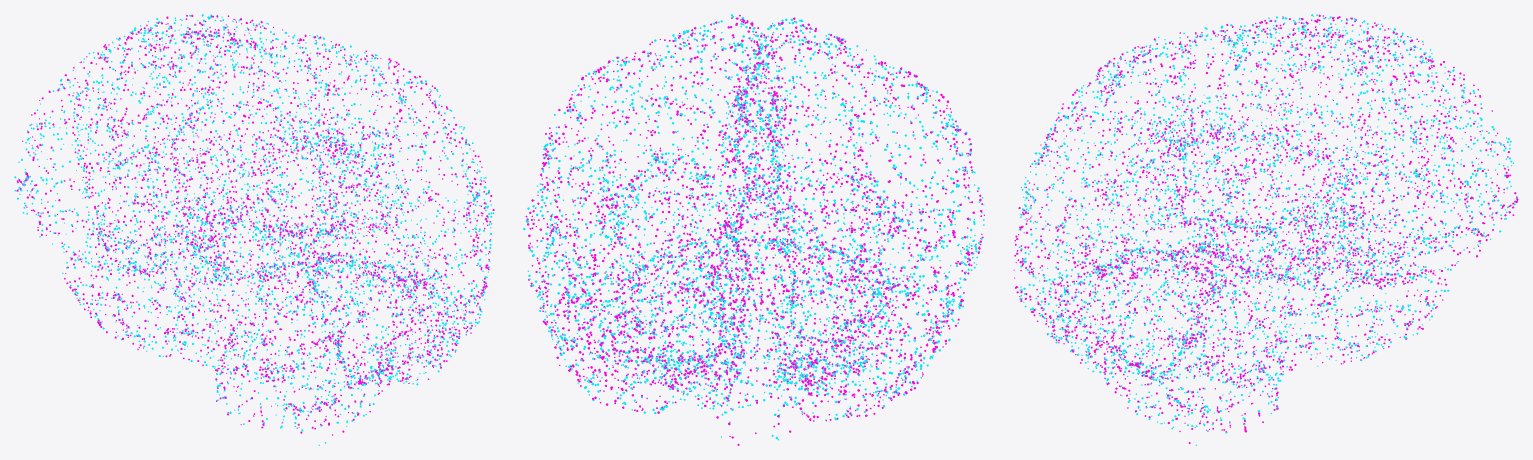
File: brain.glb
The picture shows the model from 3 angles, left to right: view 1: azimuth 30°, elevation 25°; view 2: azimuth 150°, elevation 25°; view 3: azimuth 270°, elevation 25°; orthographic projection. The views are drawn at different scales.
Parts seen in each view (by area): view 1: Icosphere.001; view 2: Icosphere.001; view 3: Icosphere.001.
Part boxes in pixels (x1,y1,x2,y2): Icosphere.001: [14, 14, 494, 445]; Icosphere.001: [523, 14, 984, 445]; Icosphere.001: [1013, 14, 1518, 445].
Bounding box in the file's own units: 1.09 × 1.1 × 1.3.
